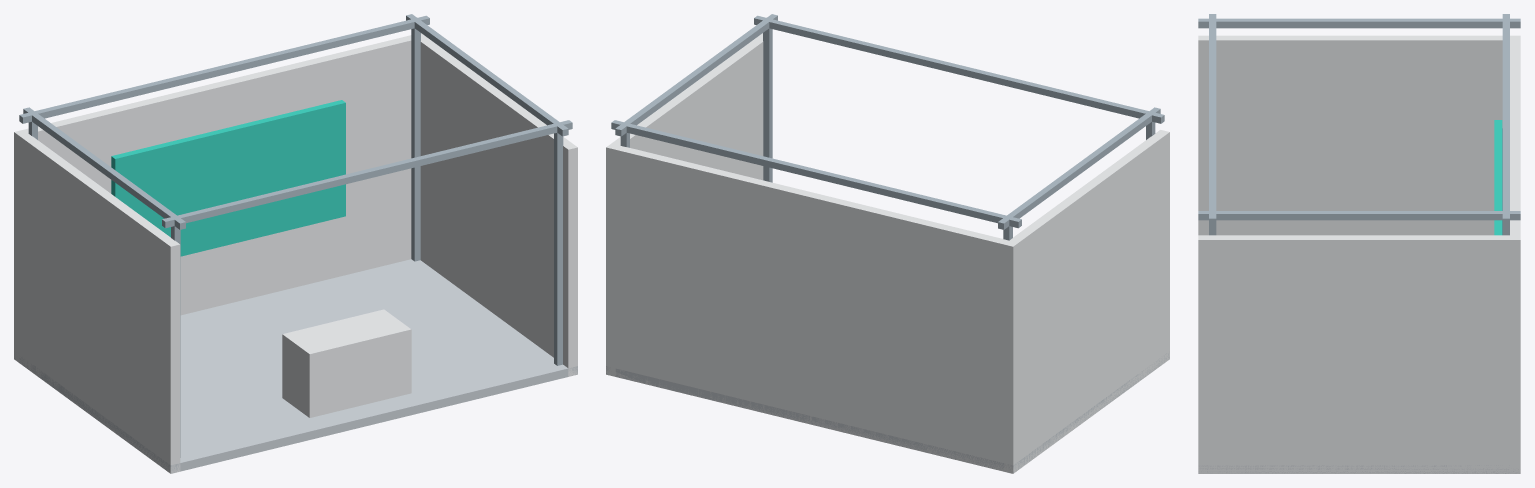
3 renders of one model, left to right at view 1: azimuth 30°, elevation 25°; view 2: azimuth 150°, elevation 25°; view 3: azimuth 270°, elevation 25°, orthographic. The views are drawn at different scales.
Parts seen in each view (by area): view 1: Exhibition Booth Concept; view 2: Exhibition Booth Concept; view 3: Exhibition Booth Concept.
Part boxes in pixels (left/top/right/bottom): Exhibition Booth Concept: left=14, top=14, right=577, bottom=473; Exhibition Booth Concept: left=606, top=14, right=1169, bottom=473; Exhibition Booth Concept: left=1198, top=14, right=1520, bottom=473.
Bounding box in the file's own units: 6 × 3.49 × 4.
